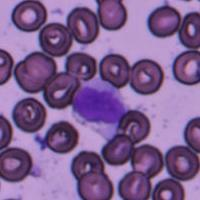M: (71, 78, 130, 129)
